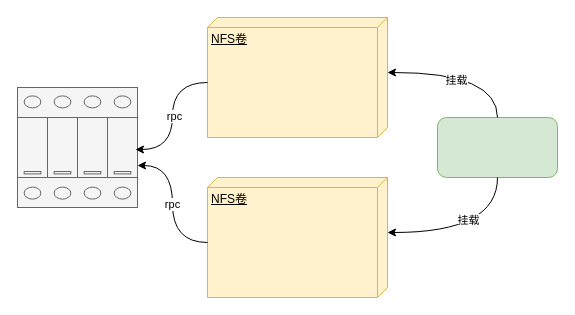
This 575x315 diagram has some shape labels left out. The shapes that lost their labels are listed below. From the top down, each one's box as (x1, y1, x2, y2) in pixels, then its label:
(16, 86, 138, 208): NFS Server
(436, 116, 558, 178): docker容器
